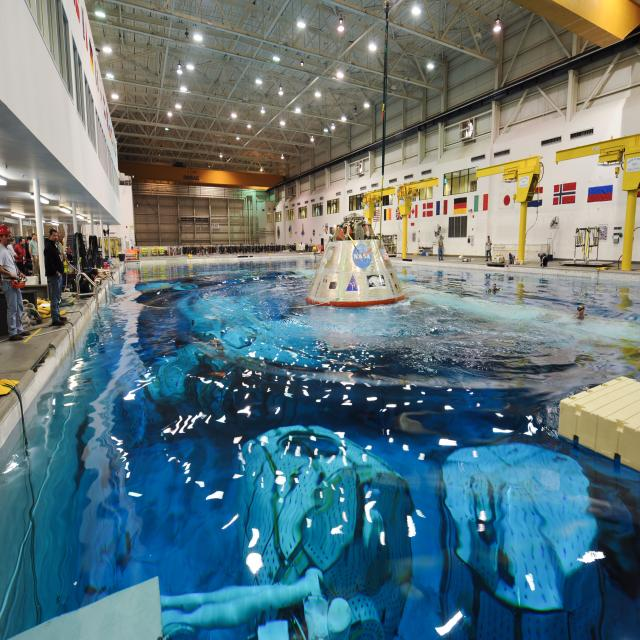Orion_capsule_mockup_(WEST)_located_on_far_end_of_pool: (306, 212, 406, 309)
